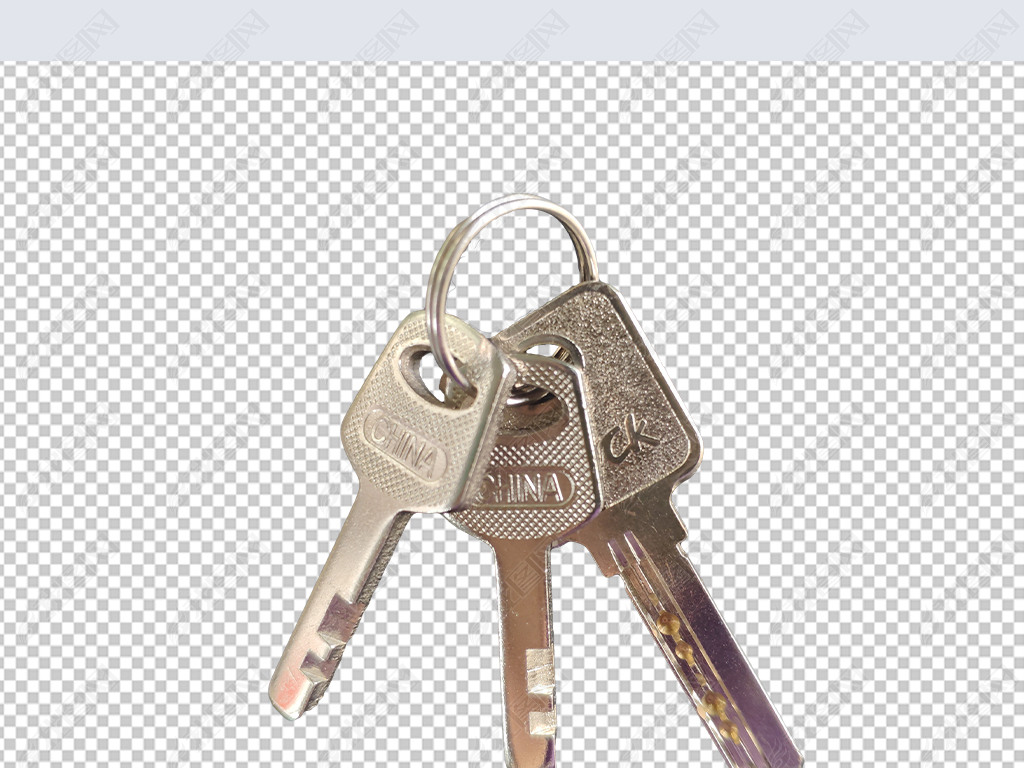key: (262, 186, 813, 763)
